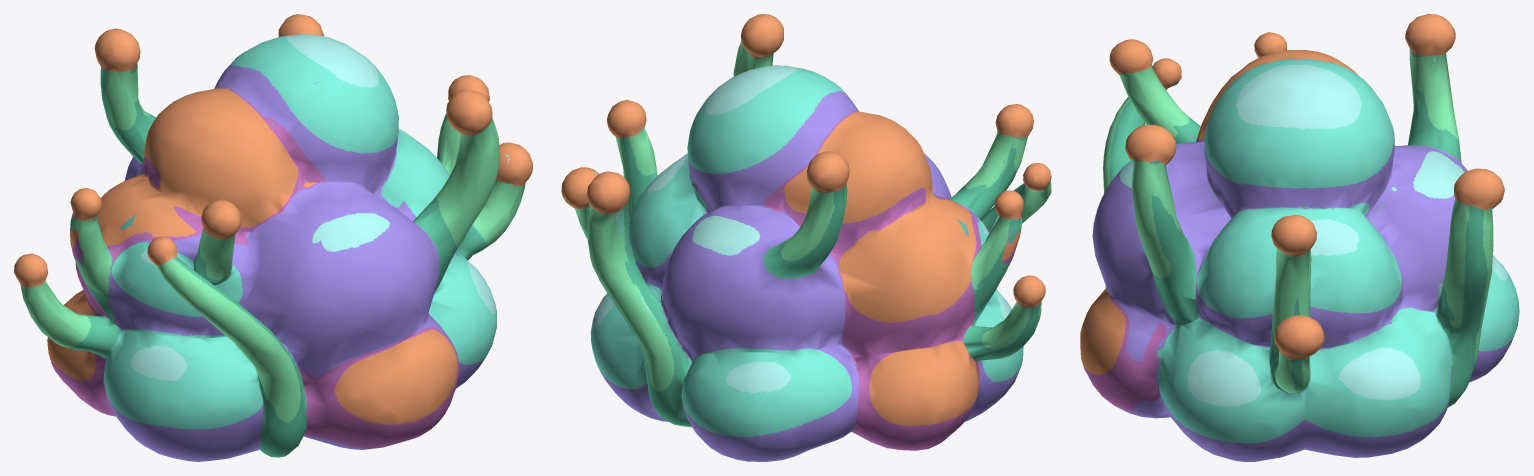
File: coral3.glb
The picture shows the model from 3 angles, left to right: view 1: azimuth 30°, elevation 25°; view 2: azimuth 150°, elevation 25°; view 3: azimuth 270°, elevation 25°; orthographic projection. The views are drawn at different scales.
Parts seen in each view (by area): view 1: Mesh_0; view 2: Mesh_0; view 3: Mesh_0.
Boxes of the visible parts, x1,y1,x2,y2 form: Mesh_0: (14,14,532,461); Mesh_0: (561,14,1051,461); Mesh_0: (1080,14,1519,461).
Size of the model in its own units: 1.9 by 1.26 by 1.43.
1 material, 1 textured.
